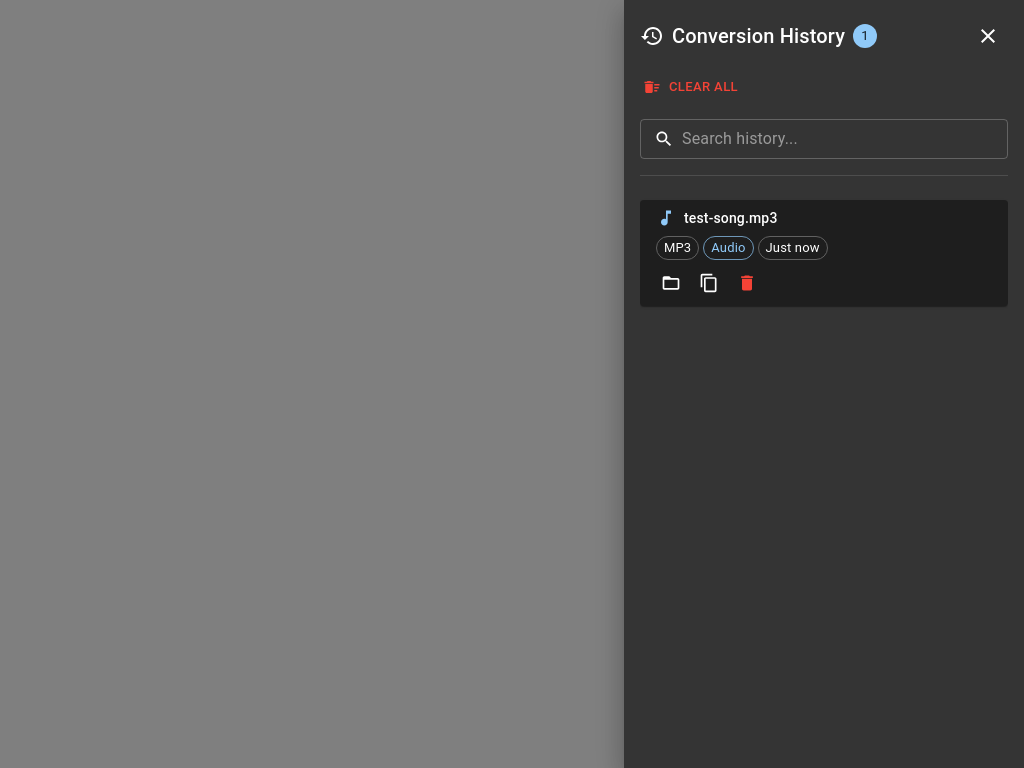
HistoryPanel › Clear All clears history via API
Expected: the text "test-song.mp3" is shown, x1=684 y1=210 x2=778 y2=226
Click the button "Clear All". click: (692, 87)
box: x1=640 y1=72 x2=743 y2=103
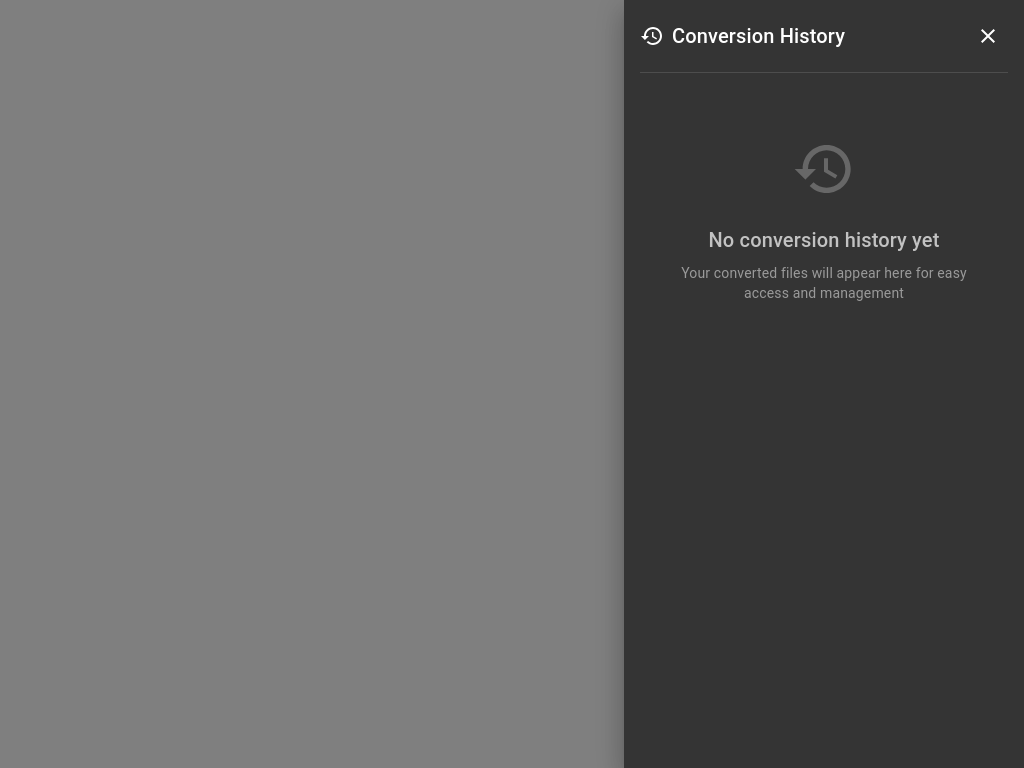
Expected: the heading "No conversion history yet" is shown, x1=708 y1=228 x2=940 y2=252
